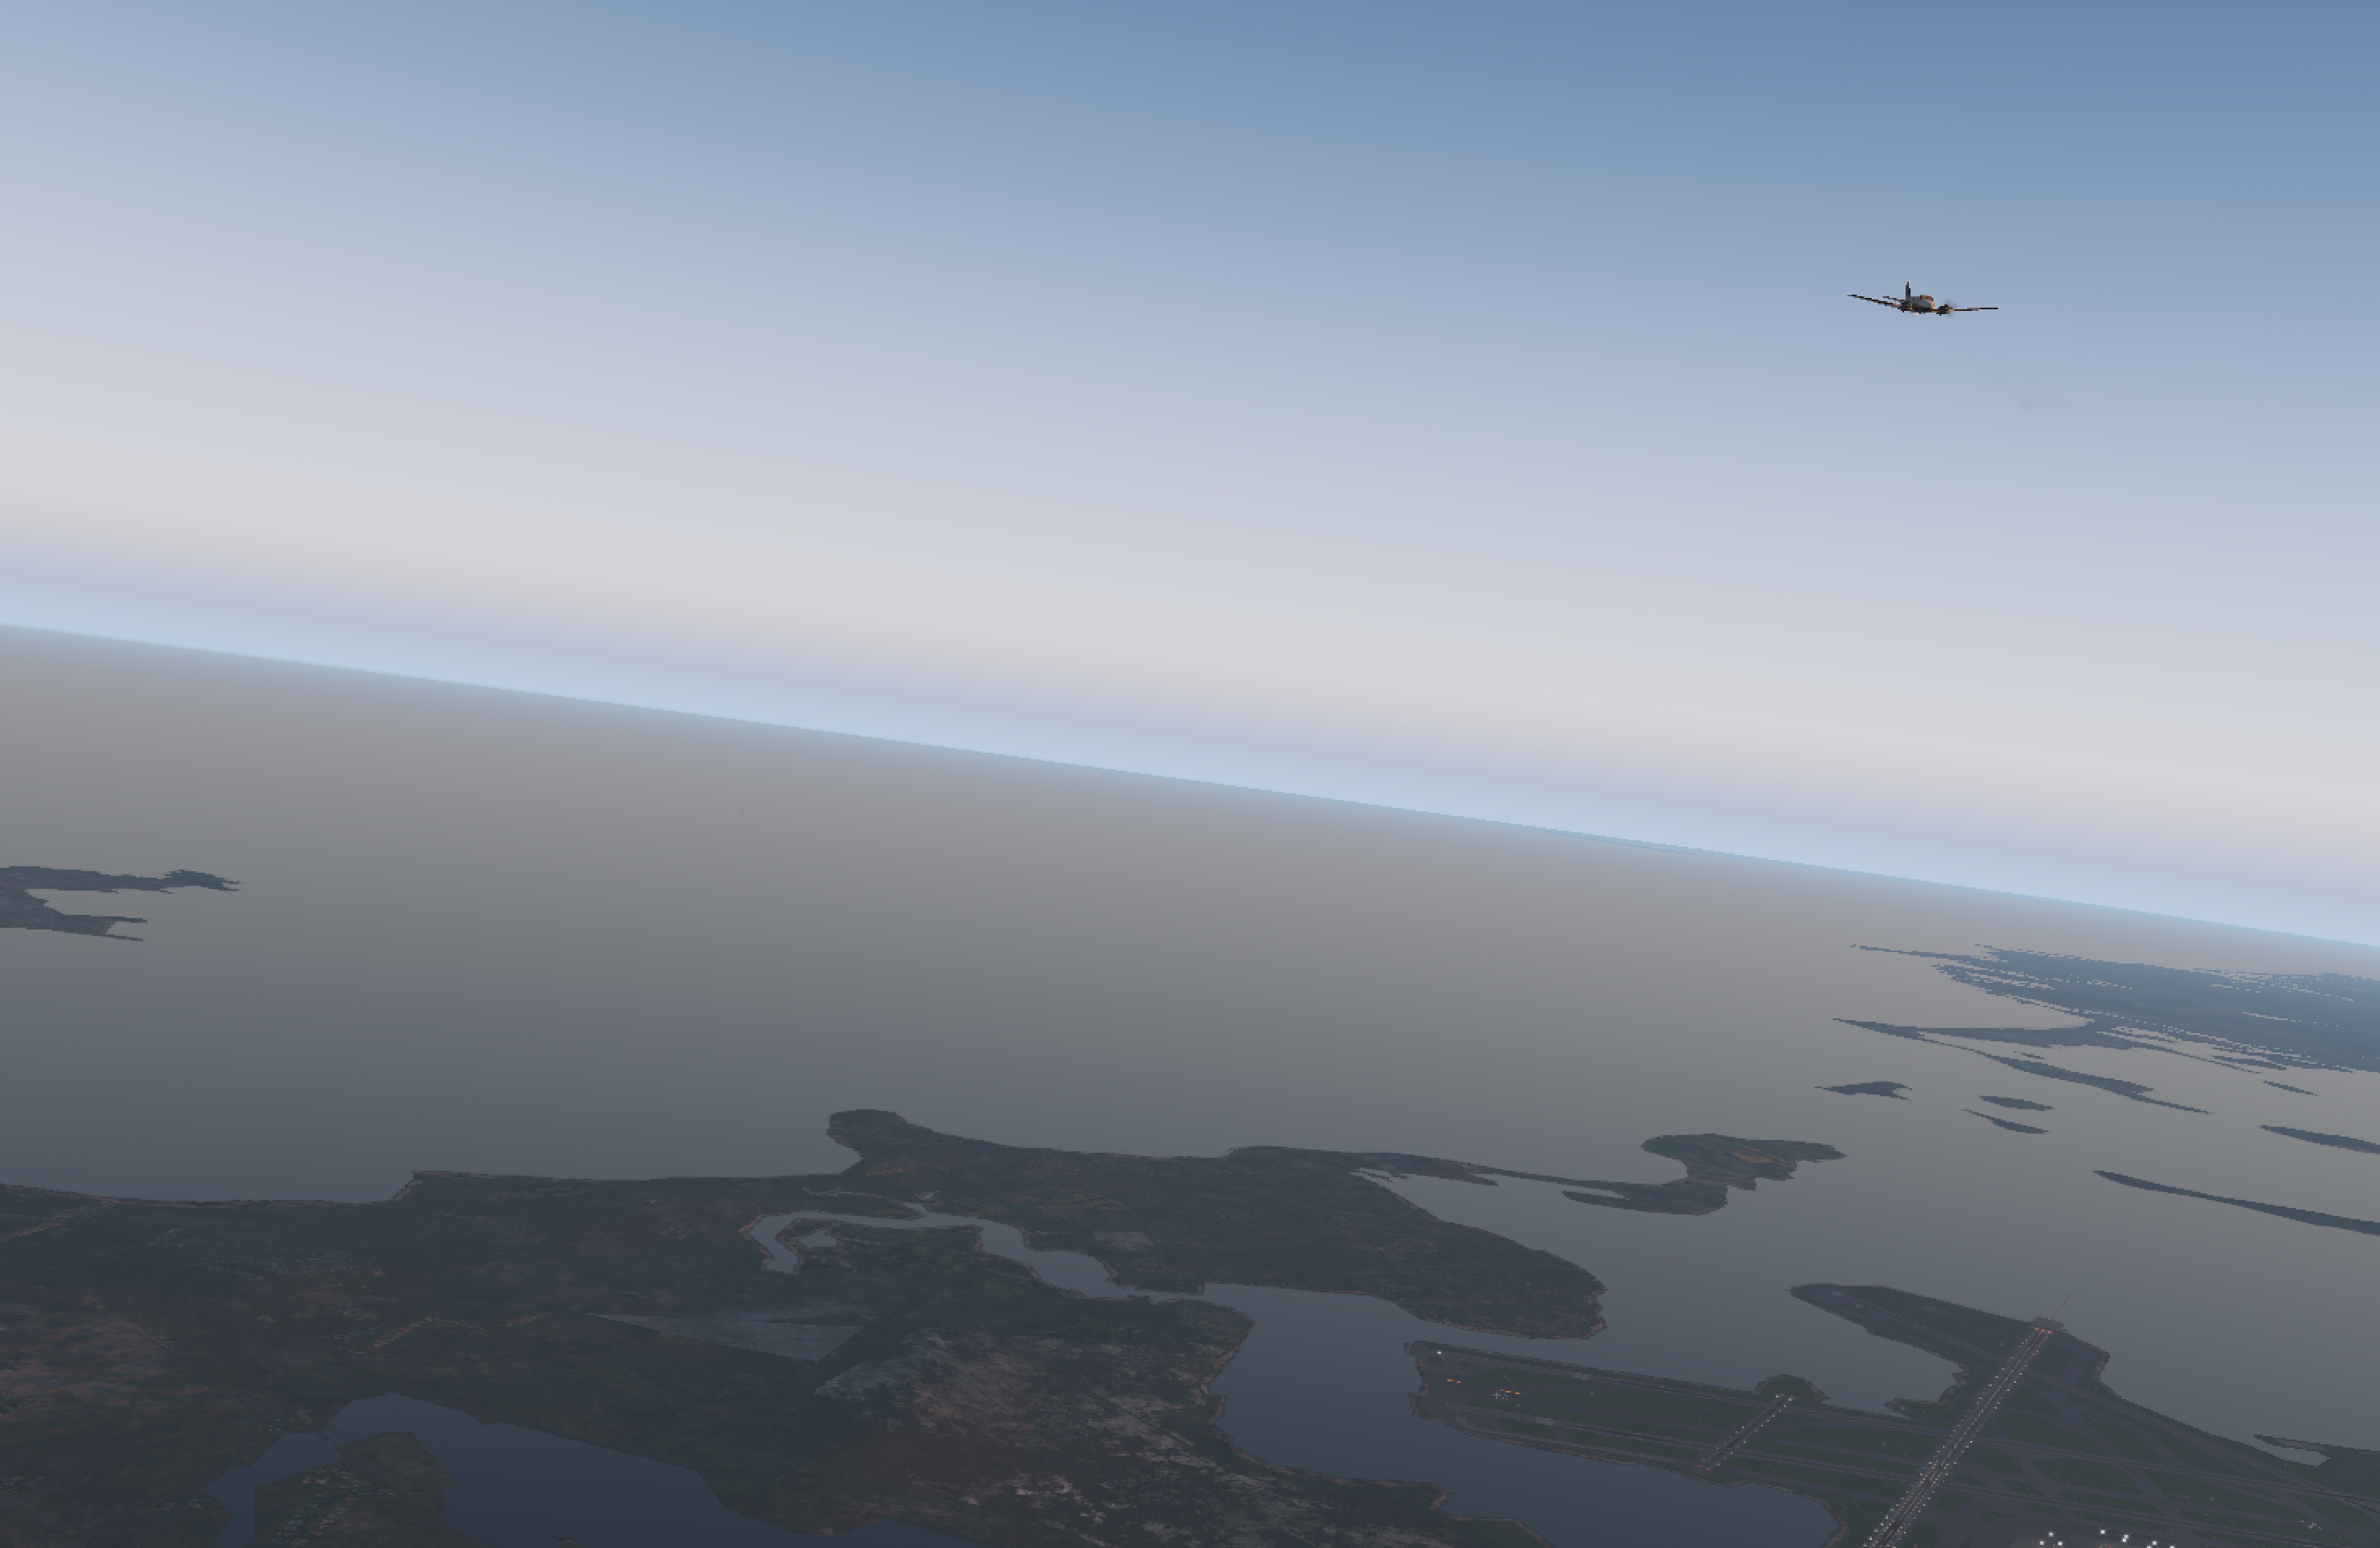aircraft: (1853, 285, 1991, 337)
